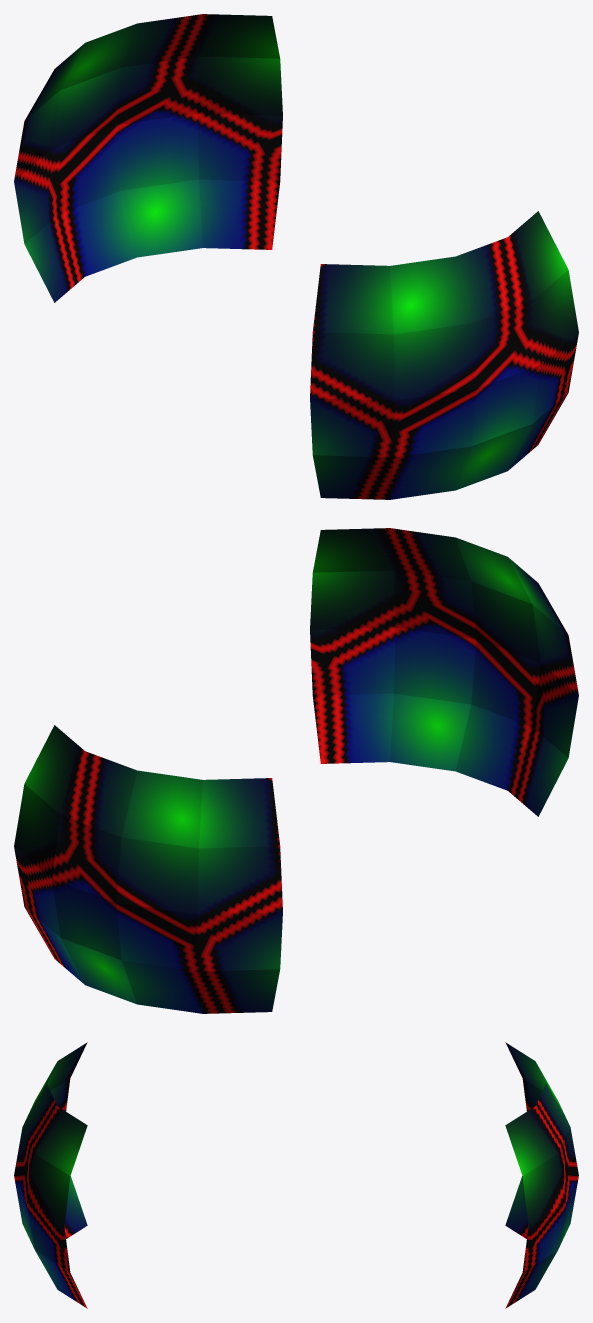
File: back_front_shield.obj
3 renders of one model, top to bottom at view 1: azimuth 30°, elevation 25°; view 2: azimuth 150°, elevation 25°; view 3: azimuth 270°, elevation 25°, orthographic. The views are drawn at different scales.
Visible parts, largest first — view 1: Sphere; view 2: Sphere; view 3: Sphere.
Boxes of the visible parts, x1,y1,x2,y2 form: Sphere: (14, 14, 578, 499); Sphere: (14, 528, 578, 1013); Sphere: (14, 1042, 578, 1308).
Size of the model in its own units: 1.41 by 1.18 by 3.28.
